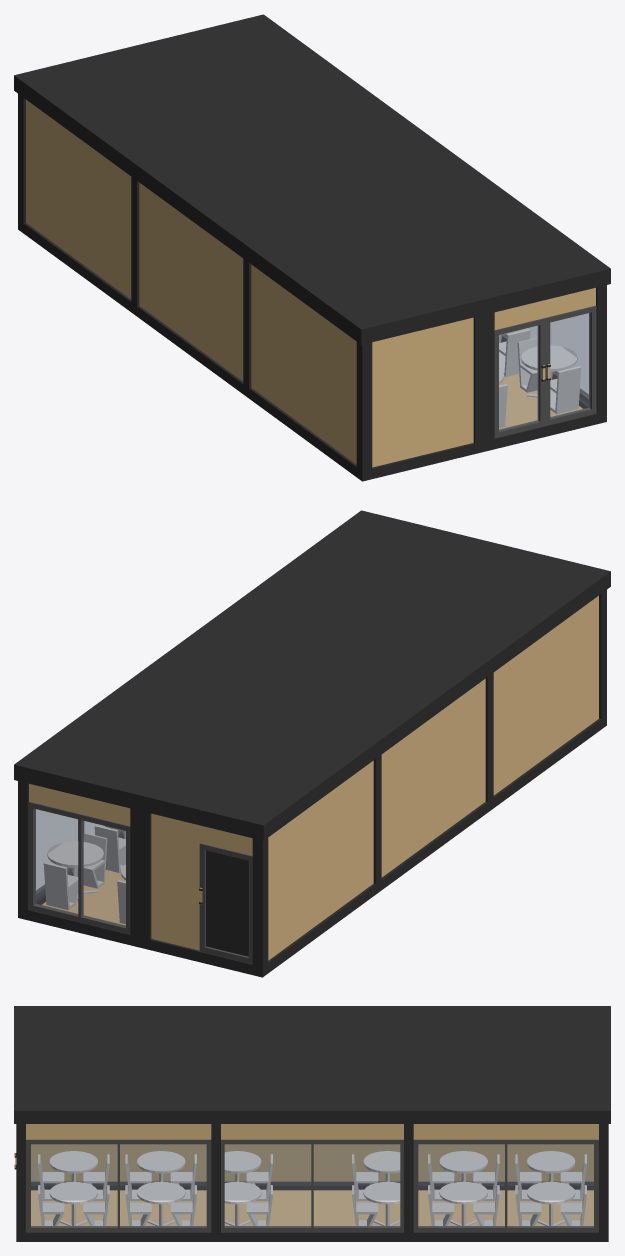
Rendered from FoodCourt.fbx.
The picture shows the model from 3 angles, top to bottom: view 1: azimuth 30°, elevation 25°; view 2: azimuth 150°, elevation 25°; view 3: azimuth 270°, elevation 25°; orthographic projection. The views are drawn at different scales.
Visible parts, largest first — view 1: Object_227, Object_190, Object_226, Object_83, Object_78, Object_97, Object_179, Object_173, Object_38, Object_178, Object_172, Object_164 (+5 smaller); view 2: Object_227, Object_190, Object_83, Object_155, Object_69, Object_102, Object_67, Object_45, Object_156, Object_181, Object_158, Object_71 (+6 smaller); view 3: Object_227, Object_181, Object_187, Object_184, Object_193, Object_102, Object_151, Object_182, Object_188, Object_185, Object_160, Object_166 (+16 smaller).
Boxes of the visible parts, x1,y1,x2,y2 form: Object_227: (14, 14, 610, 344); Object_190: (26, 99, 356, 464); Object_226: (372, 317, 473, 467); Object_83: (18, 94, 484, 481); Object_78: (356, 315, 484, 478); Object_97: (484, 285, 606, 448); Object_179: (499, 325, 538, 430); Object_173: (550, 313, 589, 417); Object_38: (517, 337, 581, 413); Object_178: (494, 318, 545, 438); Object_172: (545, 305, 596, 425); Object_164: (494, 287, 595, 329); Object_227: (14, 510, 610, 840); Object_190: (268, 595, 598, 960); Object_83: (140, 715, 606, 977); Object_155: (35, 809, 125, 926); Object_69: (151, 831, 199, 950); Object_102: (18, 781, 140, 947); Object_67: (206, 850, 248, 956); Object_45: (43, 833, 107, 909); Object_156: (28, 801, 130, 934); Object_181: (36, 809, 120, 892); Object_158: (29, 783, 130, 825); Object_71: (151, 813, 252, 855); Object_227: (14, 1006, 610, 1123); Object_181: (418, 1144, 593, 1226); Object_187: (31, 1144, 206, 1226); Object_184: (225, 1144, 399, 1226); Object_193: (31, 1144, 593, 1181); Object_102: (16, 1124, 608, 1241); Object_151: (31, 1190, 593, 1225); Object_182: (413, 1139, 598, 1232); Object_188: (26, 1139, 211, 1232); Object_185: (221, 1139, 403, 1232); Object_160: (26, 1124, 211, 1139); Object_166: (413, 1124, 598, 1139).
Bounding box in the file's own units: 757 × 445 × 1825.
